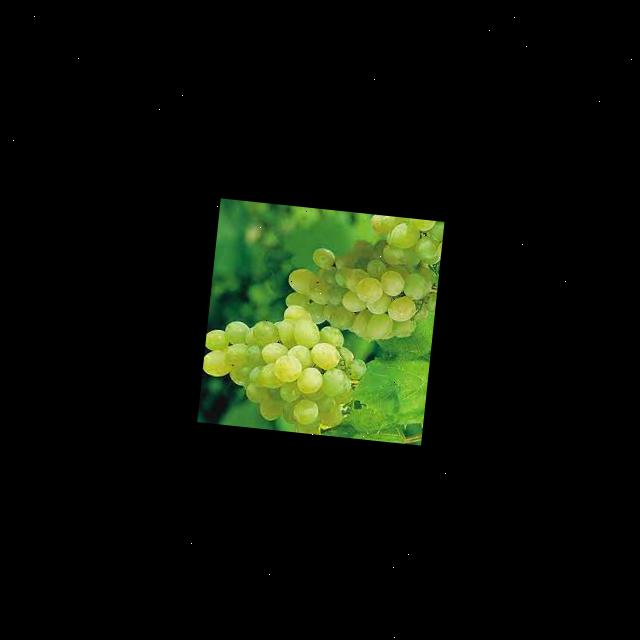grape: (197, 197, 443, 443), (198, 295, 372, 437)
